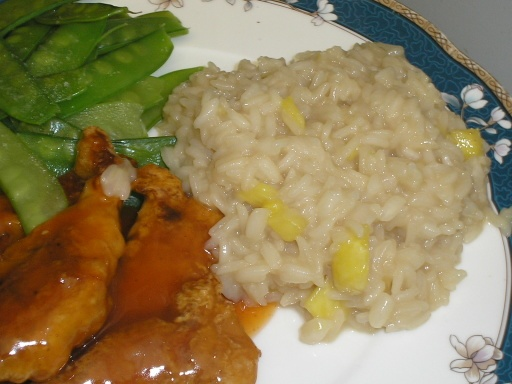background: (0, 0, 410, 230)
